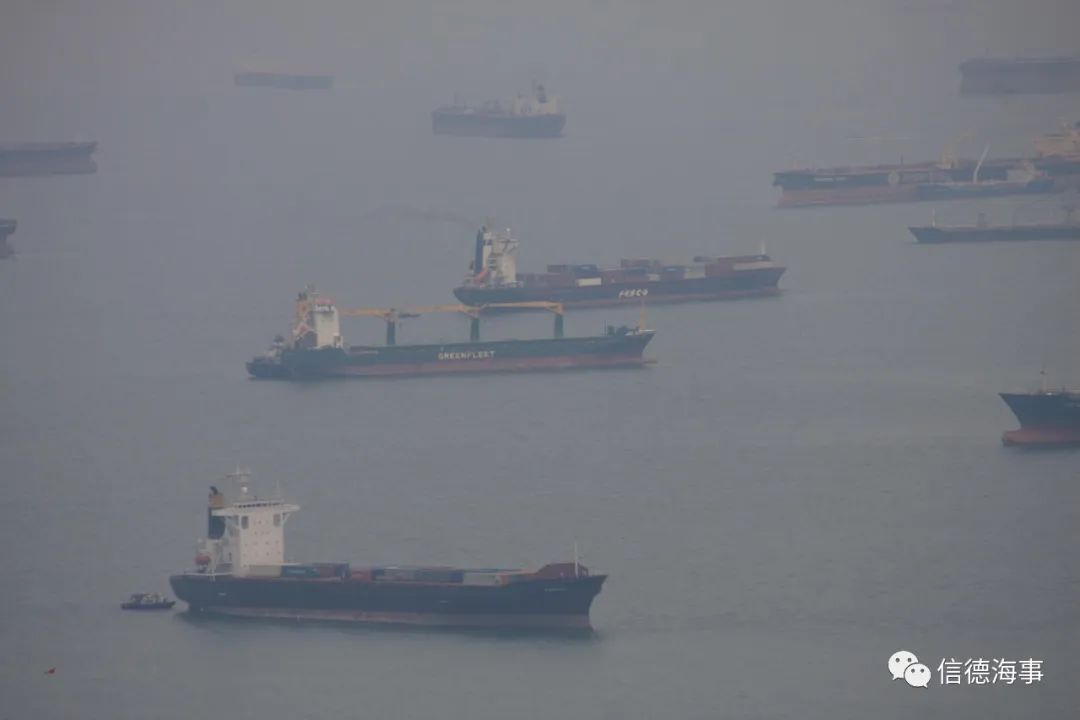Cargoship: (160, 468, 611, 635), (234, 280, 656, 390), (443, 203, 787, 305), (772, 138, 1080, 206), (429, 80, 579, 146), (120, 587, 173, 617)
